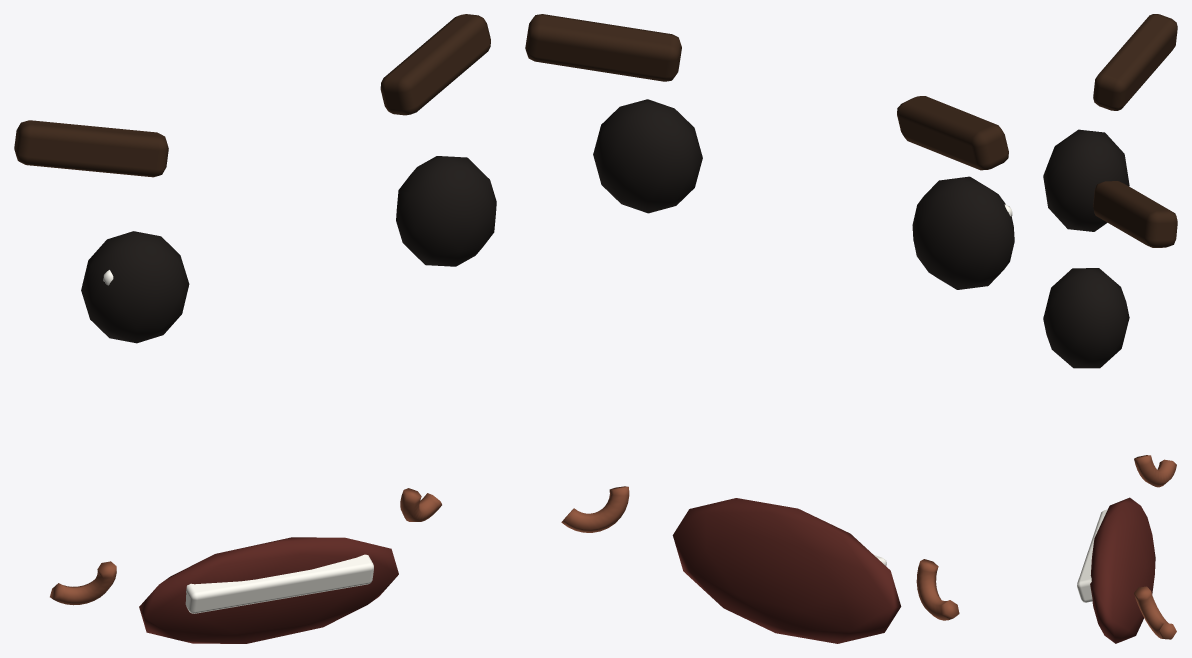
File: 13-dimple-grin.glb
3 renders of one model, left to right at view 1: azimuth 30°, elevation 25°; view 2: azimuth 150°, elevation 25°; view 3: azimuth 270°, elevation 25°, orthographic. The views are drawn at different scales.
Visible parts, largest first — view 1: Face13_MouthOpen, Face13_Eye-1, Face13_Eye1, Face13_Brow-1, Face13_Brow1, Face13_Teeth, Face13_Dimple-1, Face13_Dimple1; view 2: Face13_MouthOpen, Face13_Eye1, Face13_Eye-1, Face13_Brow1, Face13_Brow-1, Face13_Dimple1, Face13_Dimple-1; view 3: Face13_MouthOpen, Face13_Eye1, Face13_Eye-1, Face13_Brow-1, Face13_Brow1, Face13_Dimple1, Face13_Dimple-1, Face13_Teeth.
Part boxes in pixels (x1,y1,x2,y2): Face13_MouthOpen: (139,537,398,643); Face13_Eye-1: (81,231,189,343); Face13_Eye1: (396,156,496,266); Face13_Brow-1: (14,120,168,177); Face13_Brow1: (380,14,490,115); Face13_Teeth: (185,554,373,613); Face13_Dimple-1: (50,561,116,605); Face13_Dimple1: (400,488,441,521); Face13_MouthOpen: (672,498,901,643); Face13_Eye1: (593,99,702,213); Face13_Eye-1: (912,176,1014,289); Face13_Brow1: (525,14,681,81); Face13_Brow-1: (897,96,1008,170); Face13_Dimple1: (561,486,629,532); Face13_Dimple-1: (916,559,959,620); Face13_MouthOpen: (1090,497,1155,643); Face13_Eye1: (1043,268,1129,368); Face13_Eye-1: (1043,129,1129,231); Face13_Brow-1: (1093,14,1177,110); Face13_Brow1: (1093,181,1177,247); Face13_Dimple1: (1134,586,1176,639); Face13_Dimple-1: (1134,455,1176,487); Face13_Teeth: (1077,509,1107,602).
Bounding box in the file's own units: 0.2817 × 0.3208 × 0.077.
